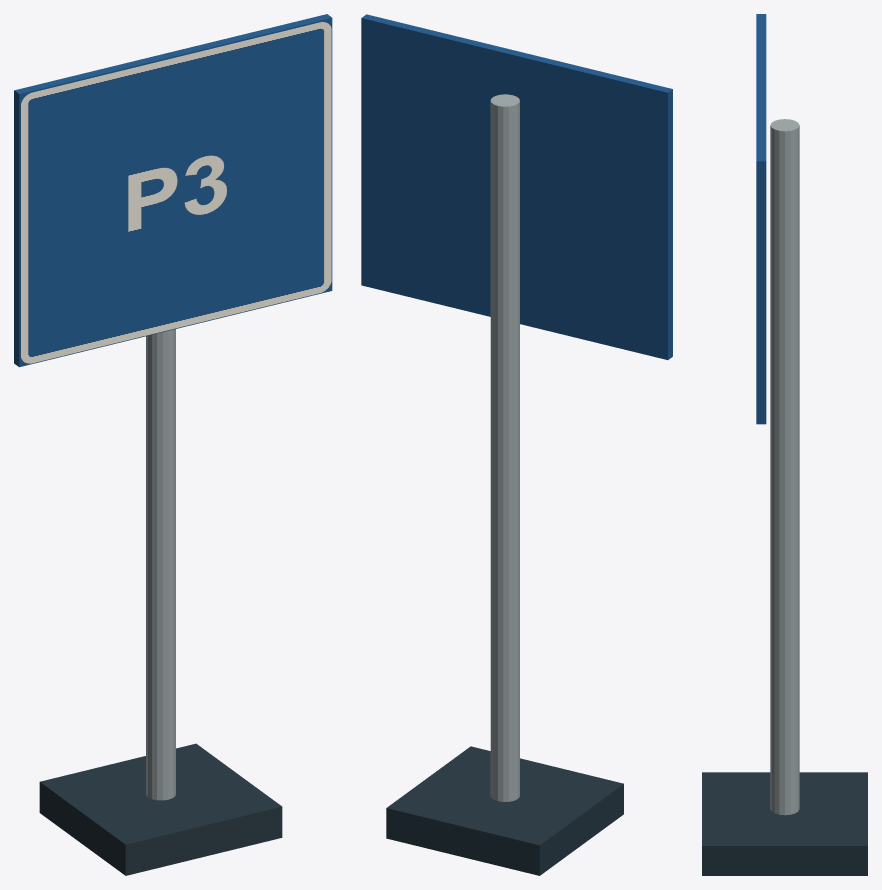
Rendered from scendance-plan-p3.glb.
3 views of the same model, side by side, from view 1: azimuth 30°, elevation 25°; view 2: azimuth 150°, elevation 25°; view 3: azimuth 270°, elevation 25° (orthographic). The views are drawn at different scales.
Size of the model in its own units: 0.84 by 2 by 0.4.
4 materials, 1 textured.
